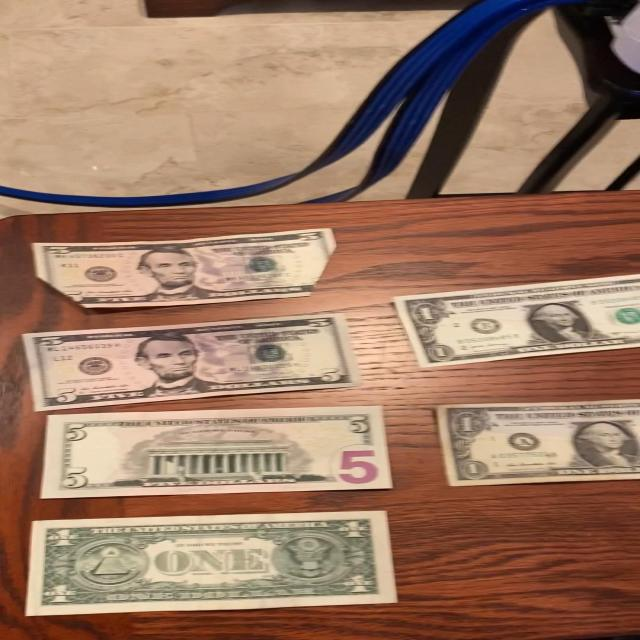1-Back: (24, 512, 403, 620)
1-Front: (391, 271, 640, 372), (432, 406, 640, 487)
5-Back: (37, 404, 394, 501)
5-Front: (20, 313, 357, 410), (30, 228, 337, 310)
